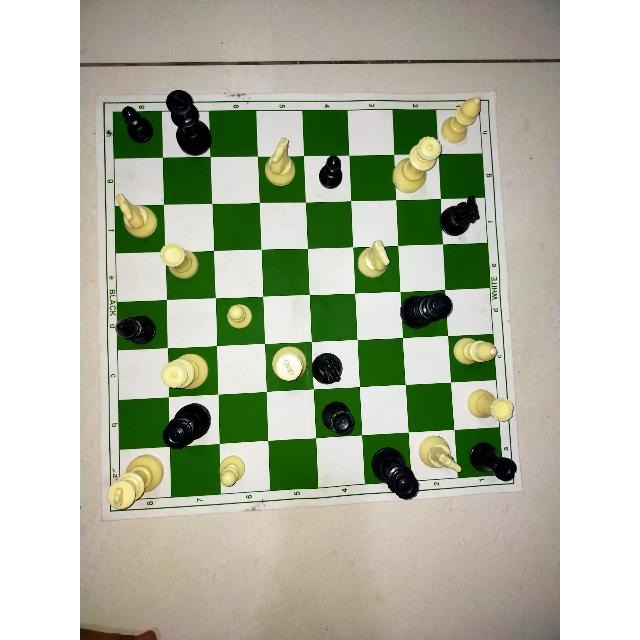black-bishop: (108, 308, 155, 349)
black-king: (162, 88, 214, 158), (396, 285, 455, 328)
black-knight: (440, 194, 484, 240), (309, 349, 345, 386)
black-pawn: (118, 97, 158, 145), (315, 153, 349, 189)
black-queen: (369, 445, 422, 502), (161, 400, 211, 452)
black-rook: (468, 438, 520, 482), (320, 398, 360, 438)
white-bishop: (440, 92, 482, 148), (450, 327, 497, 367)
white-king: (108, 449, 164, 517), (270, 345, 308, 386)
white-knight: (414, 434, 466, 484), (110, 189, 159, 240), (354, 236, 392, 287), (262, 136, 296, 190)
white-pawn: (216, 450, 249, 492), (225, 301, 261, 333)
white-queen: (389, 131, 443, 196), (159, 351, 213, 395)
white-rook: (465, 387, 517, 426), (155, 244, 202, 281)
